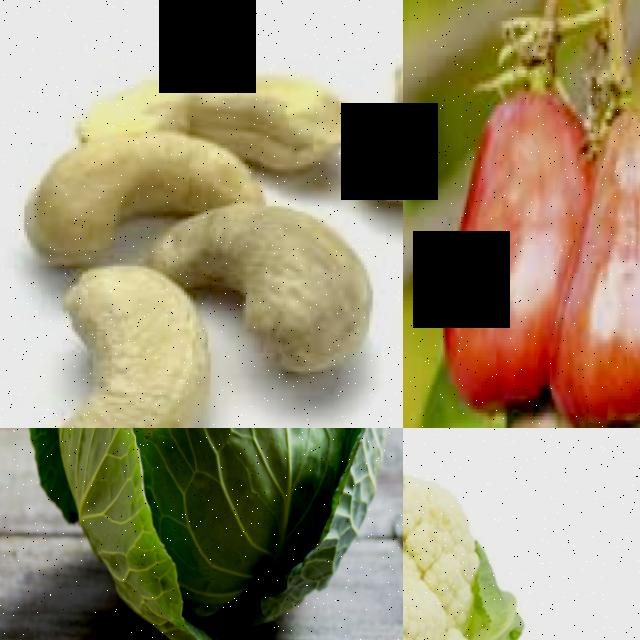cabbage: (0, 428, 403, 640)
cashew: (0, 266, 228, 428), (210, 202, 403, 360), (0, 116, 260, 230), (58, 29, 342, 132), (352, 41, 403, 211), (511, 394, 581, 428)
cauliflower: (403, 428, 606, 640)
